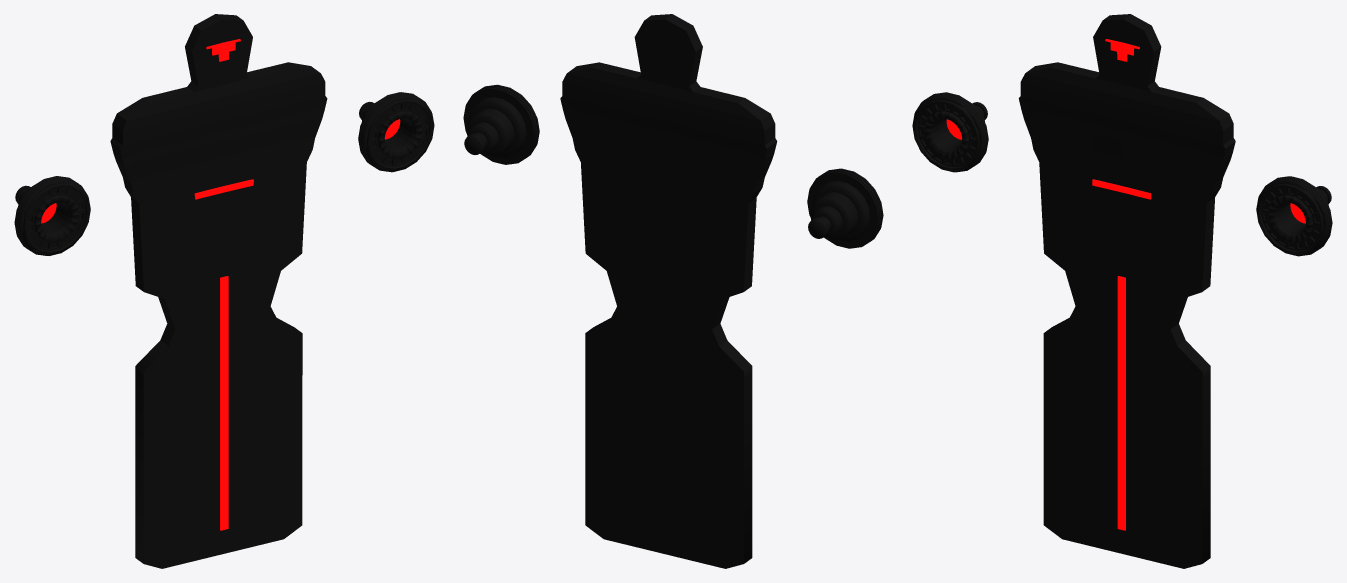
File: Target_Cyber_with_canons.FBX
The picture shows the model from 3 angles, left to right: view 1: azimuth 30°, elevation 25°; view 2: azimuth 150°, elevation 25°; view 3: azimuth 330°, elevation 25°; orthographic projection.
Visible parts, largest first — view 1: Box003, Cylinder191, Cylinder192; view 2: Box003, Cylinder192, Cylinder191; view 3: Box003, Cylinder192, Cylinder191.
Boxes of the visible parts, box(x1,y1,x2,y2) form: Box003: box(110, 14, 327, 568); Cylinder191: box(14, 176, 90, 255); Cylinder192: box(358, 92, 434, 172); Box003: box(560, 14, 777, 568); Cylinder192: box(463, 84, 539, 164); Cylinder191: box(807, 168, 883, 248); Box003: box(1018, 14, 1235, 568); Cylinder192: box(1256, 176, 1332, 256); Cylinder191: box(912, 92, 988, 172).
Size of the model in its own units: 154 by 189 by 22.07.
